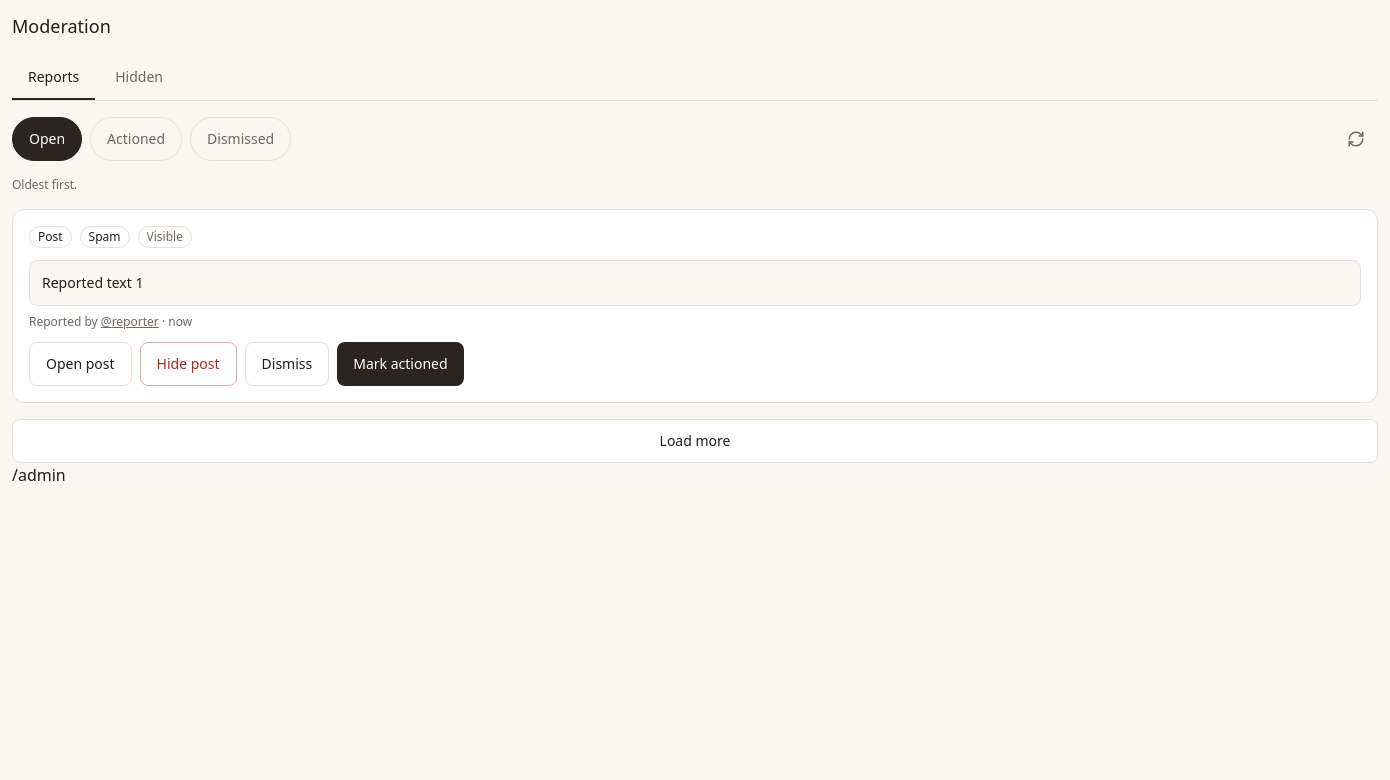
AdminPage queue › pages with the cursor
Expected: the text "Reported text 1" is shown, top-left (29, 260), bottom-right (1361, 306)
Click the button "Load more" at (695, 441), box top-left (12, 419), bottom-right (1378, 463)
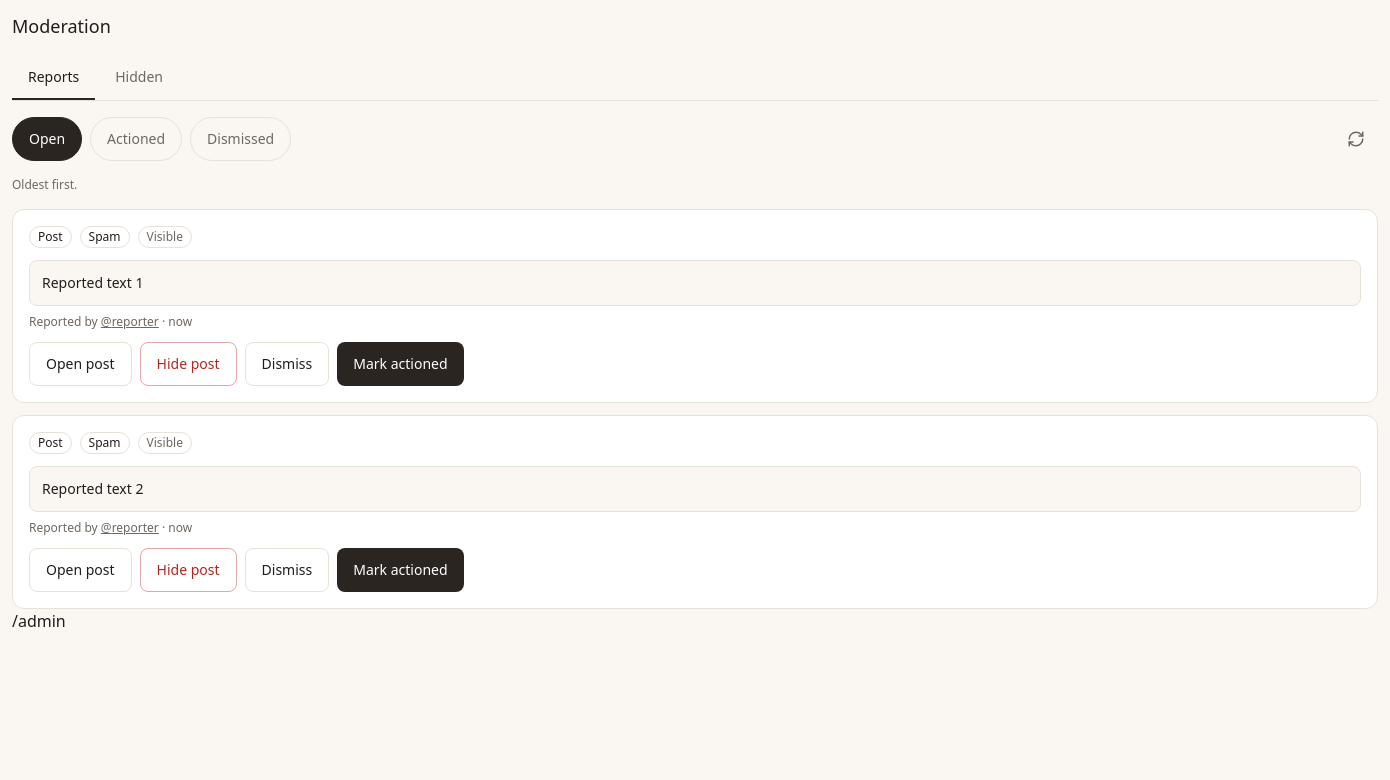
Expected: the text "Reported text 2" is shown, top-left (29, 466), bottom-right (1361, 512)
